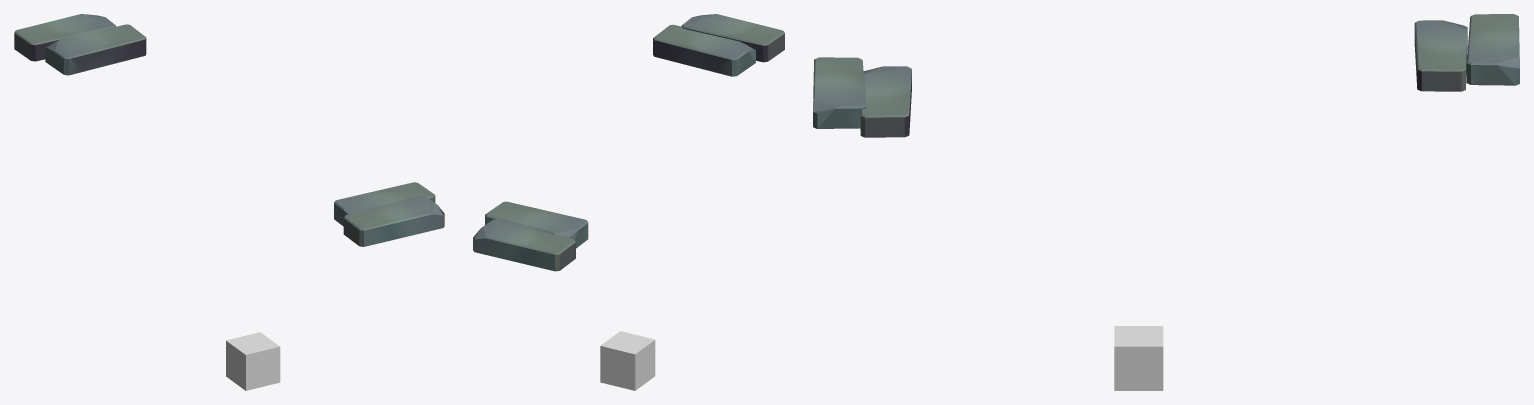
The model's file is home-floor013-2.fbx.
3 renders of one model, left to right at view 1: azimuth 30°, elevation 25°; view 2: azimuth 150°, elevation 25°; view 3: azimuth 270°, elevation 25°, orthographic. The views are drawn at different scales.
Visible parts, largest first — view 1: Cube.012, Cube.015, home-floor013-2, Cube.016, Cube.011; view 2: Cube.016, Cube.011, home-floor013-2, Cube.012, Cube.015; view 3: Cube.016, Cube.015, Cube.012, Cube.011, home-floor013-2.
Boxes of the visible parts, x1=… form: Cube.012: x1=343, y1=195, x2=444, y2=246; Cube.015: x1=45, y1=24, x2=146, y2=75; home-floor013-2: x1=226, y1=332, x2=280, y2=390; Cube.016: x1=14, y1=14, x2=115, y2=61; Cube.011: x1=334, y1=182, x2=435, y2=226; Cube.016: x1=473, y1=219, x2=575, y2=271; Cube.011: x1=653, y1=24, x2=755, y2=76; home-floor013-2: x1=600, y1=331, x2=655, y2=390; Cube.012: x1=681, y1=14, x2=784, y2=62; Cube.015: x1=485, y1=201, x2=588, y2=248; Cube.016: x1=1466, y1=14, x2=1519, y2=85; Cube.015: x1=1414, y1=20, x2=1467, y2=91; Cube.012: x1=813, y1=57, x2=866, y2=128; Cube.011: x1=860, y1=66, x2=911, y2=137; home-floor013-2: x1=1114, y1=326, x2=1163, y2=390.
Bounding box in the file's own units: 485 × 759 × 1540.
